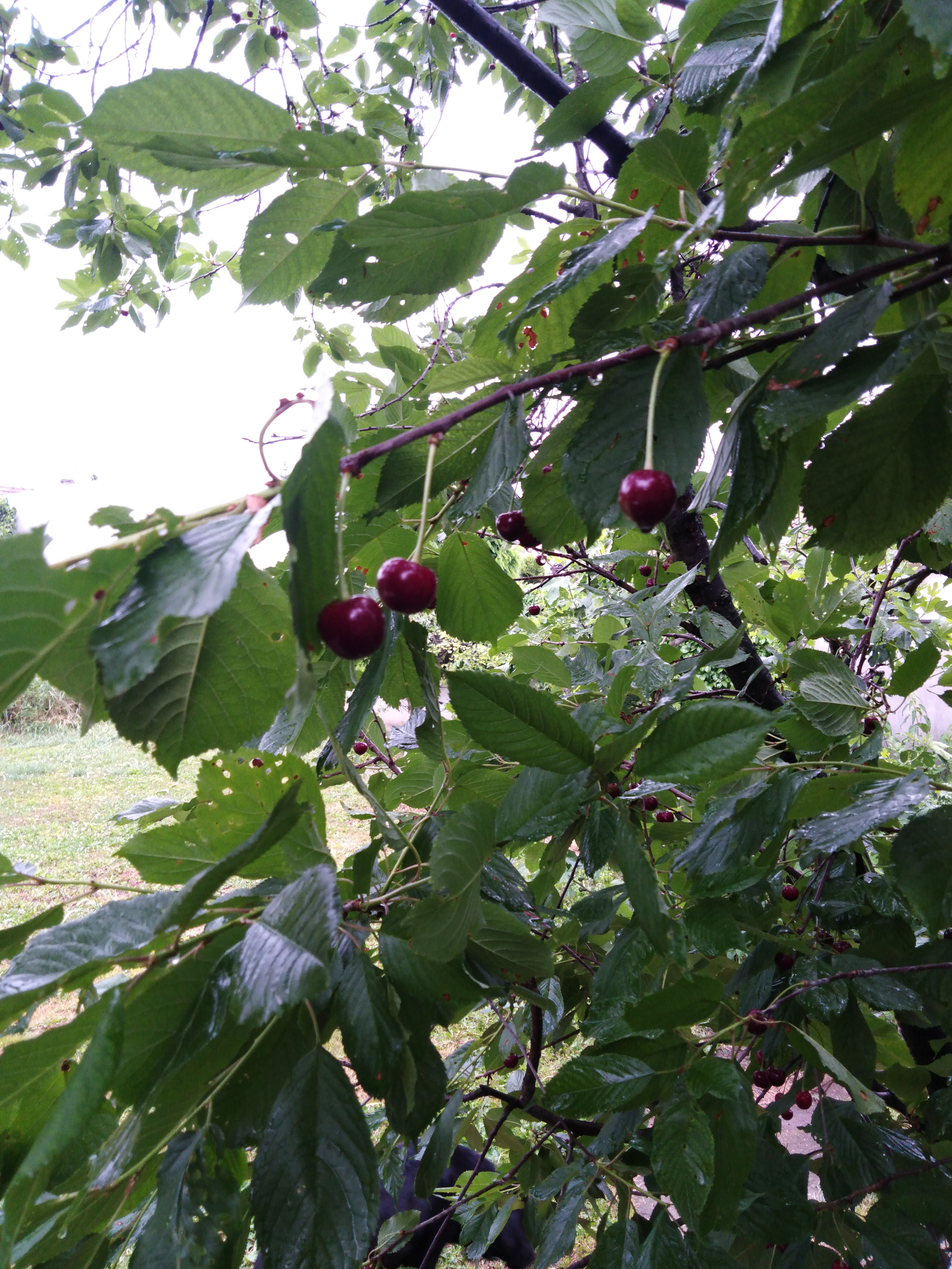Cherry: (609, 438, 694, 538), (483, 493, 543, 558)
